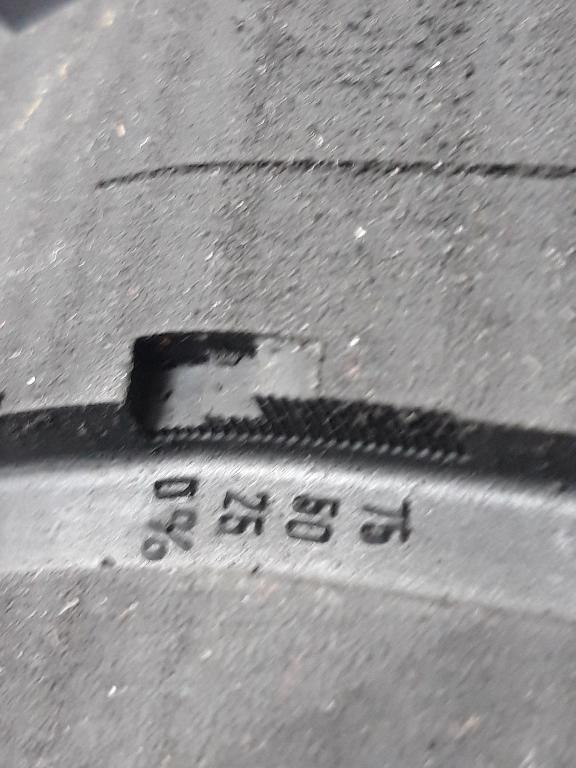temoin:50: (105, 314, 349, 467)
